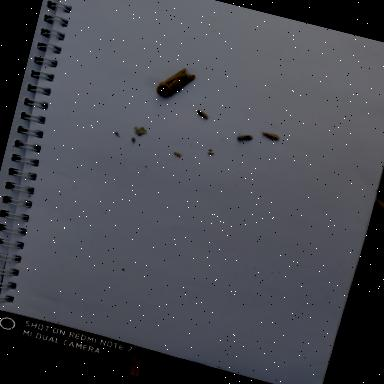abw: (150, 59, 198, 107)
